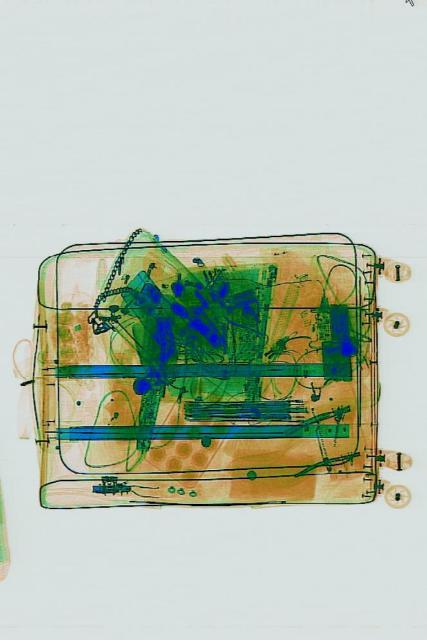Pliers: (221, 285, 270, 353)
